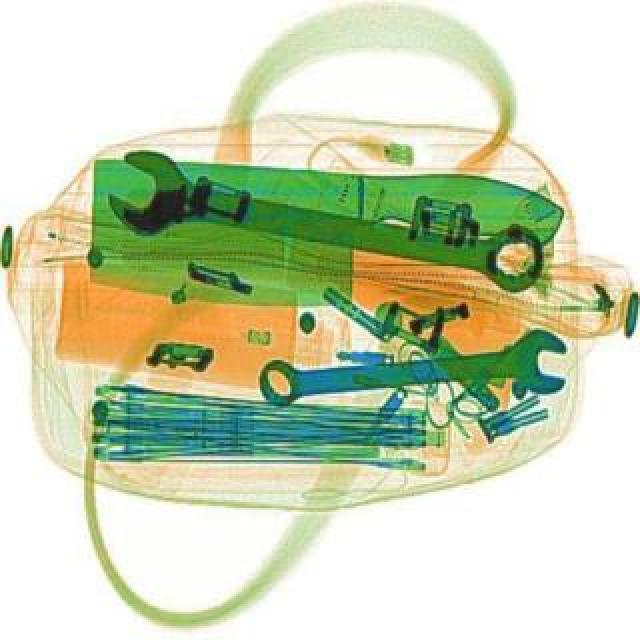knife: (82, 152, 566, 328)
scissors: (98, 150, 550, 308), (256, 332, 568, 422)
